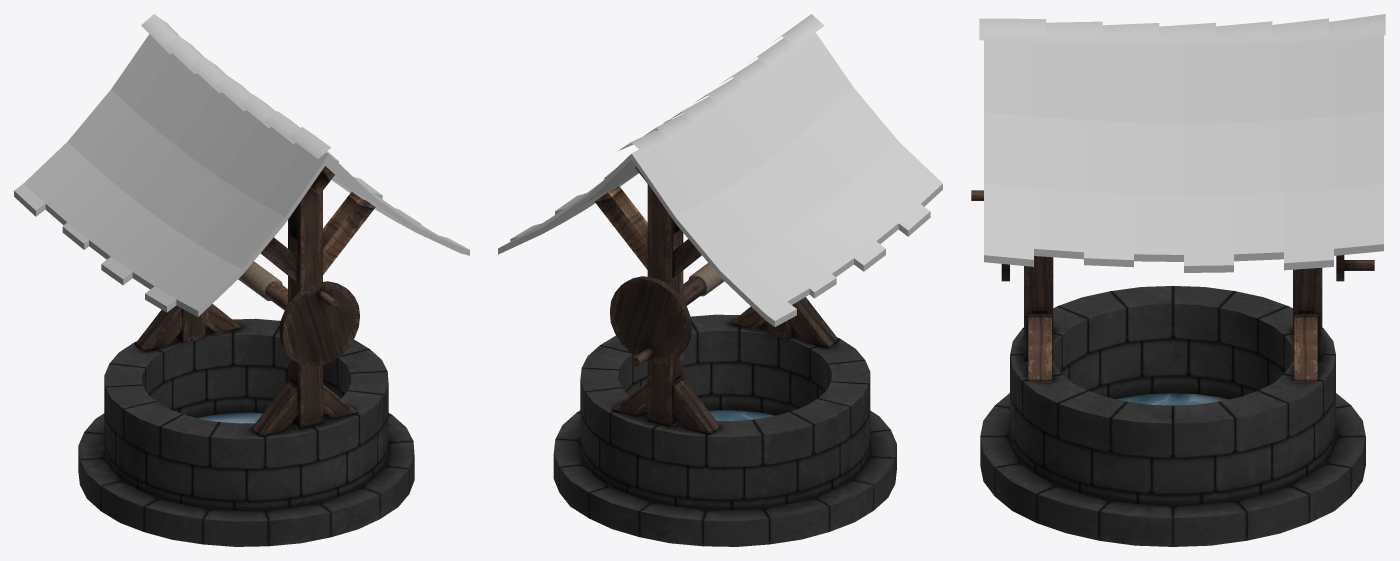
The model's file is well.FBX.
3 views of the same model, side by side, from view 1: azimuth 30°, elevation 25°; view 2: azimuth 150°, elevation 25°; view 3: azimuth 270°, elevation 25° (orthographic). The views are drawn at different scales.
Parts seen in each view (by area): view 1: Well_low; view 2: Well_low; view 3: Well_low.
Part boxes in pixels (x1,y1,x2,y2): Well_low: (14,14,469,546); Well_low: (498,14,942,546); Well_low: (971,14,1385,546).
Size of the model in its own units: 184 by 197 by 237.
